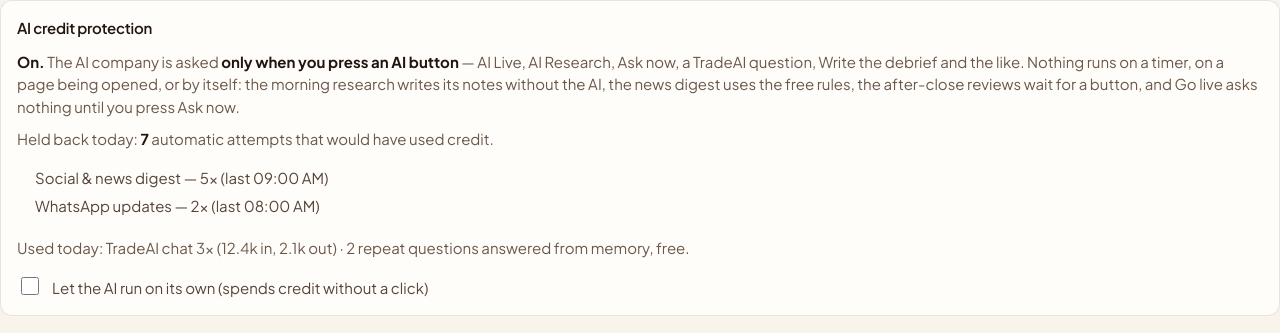
Scenario: only the owner sees the switch, it is off by default, and turning it on is a deliberate act
Click the checkbox labelled "Let the AI run on its own (spends credit without a click)": (30, 286) [21,277,39,295]
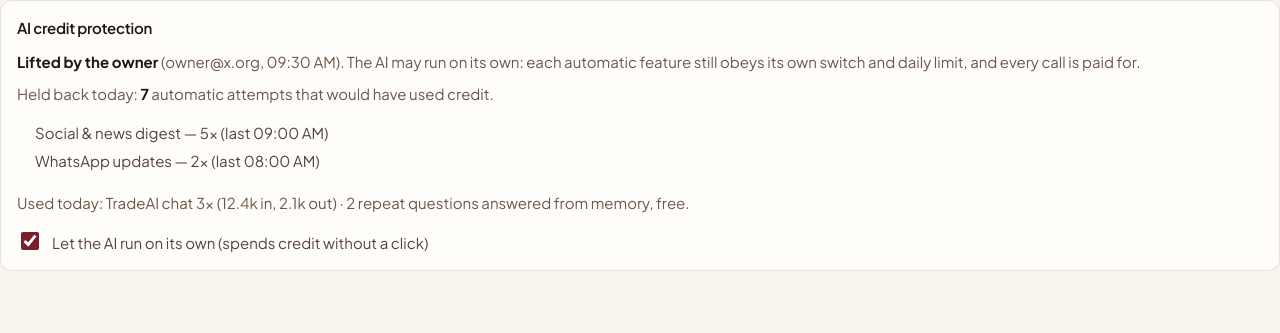
Expected: the element with class "ais-spend" shows "Lifted by the owner (owner@x.org"
Expected: the element with class "ais-spend" shows "each automatic feature still obeys its own switch and daily limit", [340,52,1140,70]
